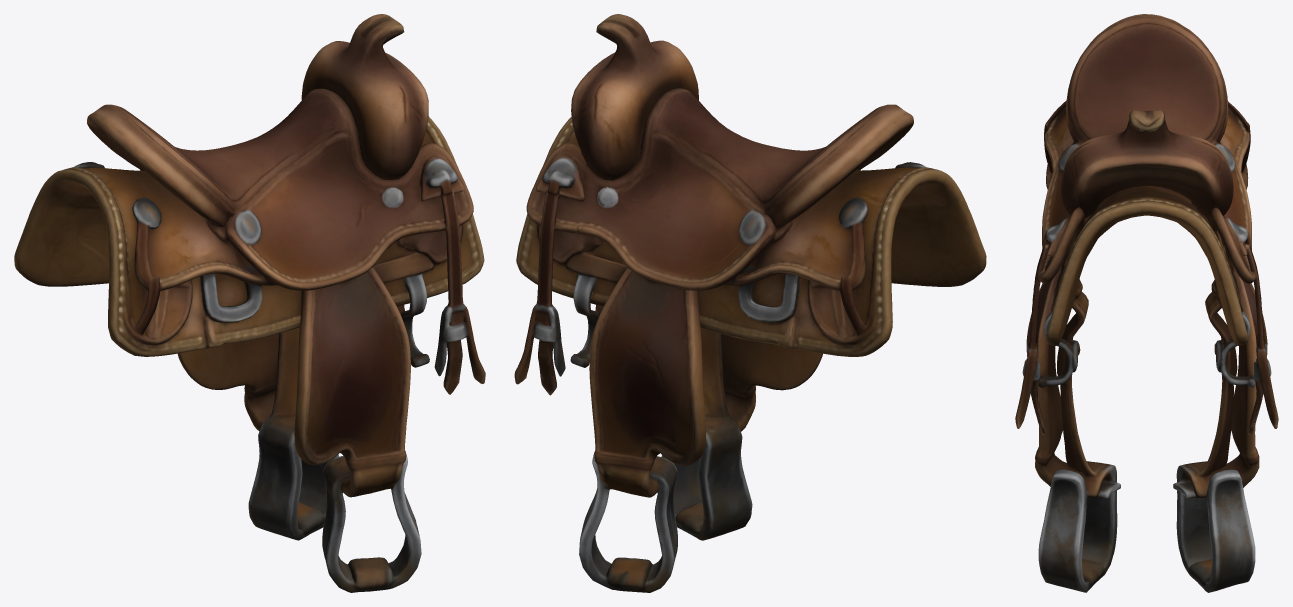
The model's file is saddle.glb.
The picture shows the model from 3 angles, left to right: view 1: azimuth 30°, elevation 25°; view 2: azimuth 150°, elevation 25°; view 3: azimuth 270°, elevation 25°; orthographic projection. The views are drawn at different scales.
Visible parts, largest first — view 1: world; view 2: world; view 3: world.
Part boxes in pixels (x1,y1,x2,y2): world: [14, 14, 485, 592]; world: [514, 14, 986, 592]; world: [1015, 14, 1278, 592].
Size of the model in its own units: 0.7449 by 1 by 0.486.
1 material, 1 textured.
